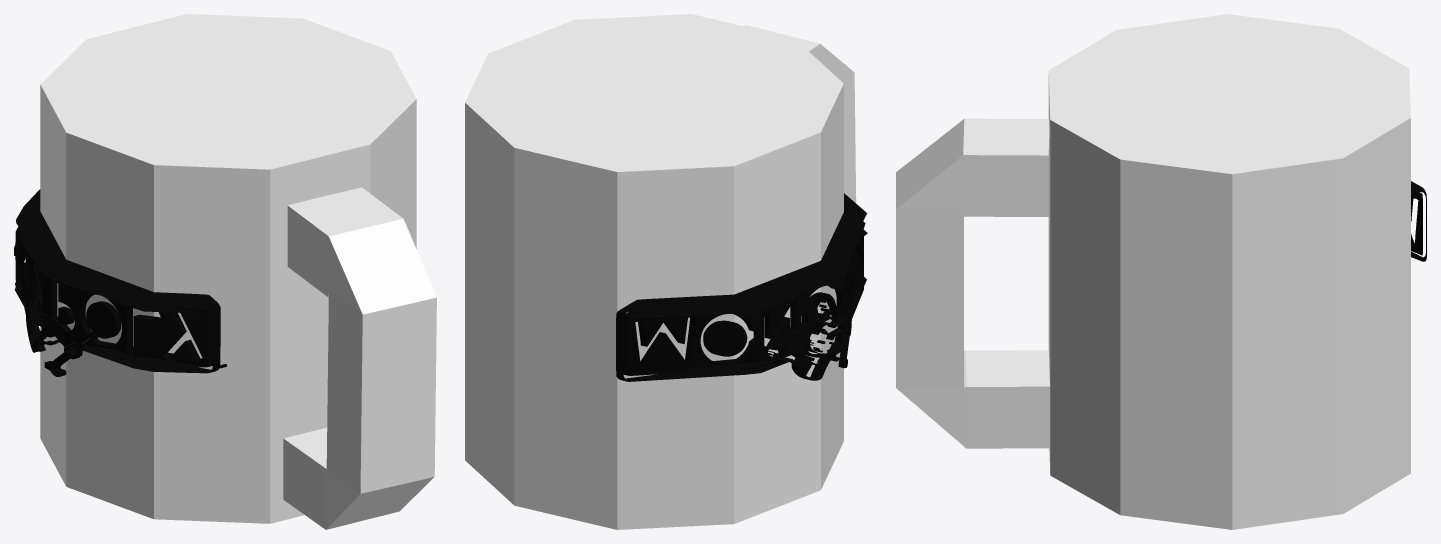
Rendered from taza_1.fbx.
The picture shows the model from 3 angles, left to right: view 1: azimuth 30°, elevation 25°; view 2: azimuth 150°, elevation 25°; view 3: azimuth 270°, elevation 25°; orthographic projection.
Parts seen in each view (by area): view 1: path1.003; view 2: path1.003; view 3: path1.003.
Boxes of the visible parts, box(x1,y1,x2,y2) form: path1.003: box(14, 14, 436, 529); path1.003: box(465, 14, 867, 529); path1.003: box(896, 14, 1426, 529).
Size of the model in its own units: 36.91 by 35.73 by 48.33.
